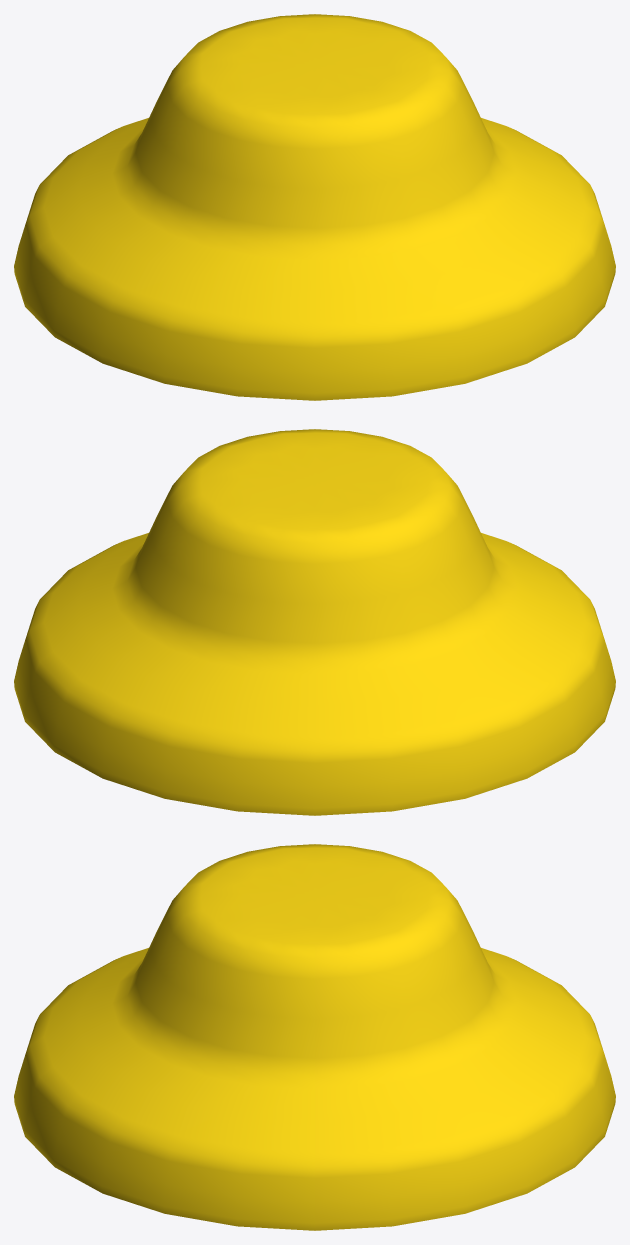
File: Farm_8_Hat_1.glb
The picture shows the model from 3 angles, top to bottom: view 1: azimuth 30°, elevation 25°; view 2: azimuth 150°, elevation 25°; view 3: azimuth 270°, elevation 25°; orthographic projection.
Visible parts, largest first — view 1: Farm_8_Hat_1; view 2: Farm_8_Hat_1; view 3: Farm_8_Hat_1.
Part boxes in pixels (box(x1,y1,x2,y2)): Farm_8_Hat_1: box(14, 14, 615, 400); Farm_8_Hat_1: box(14, 429, 615, 815); Farm_8_Hat_1: box(14, 844, 615, 1230).
Bounding box in the file's own units: 0.6874 × 0.2637 × 0.6874.
1 material, 1 textured.
